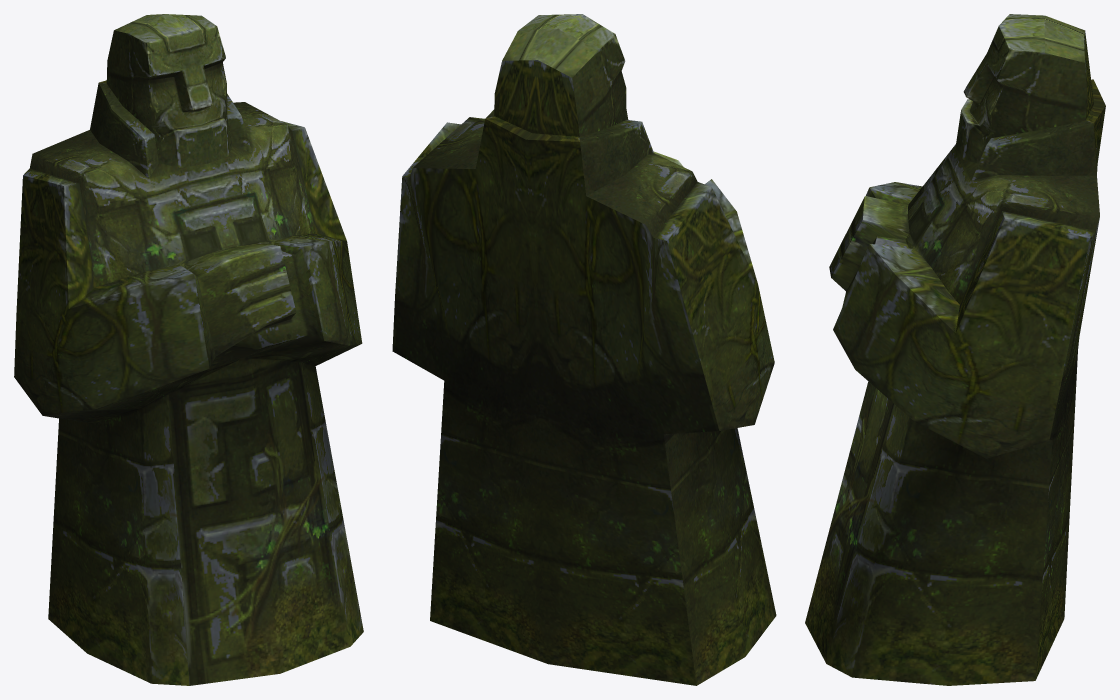
Rendered from common_yewai_shitouren.FBX.
The picture shows the model from 3 angles, left to right: view 1: azimuth 30°, elevation 25°; view 2: azimuth 150°, elevation 25°; view 3: azimuth 270°, elevation 25°; orthographic projection. The views are drawn at different scales.
Visible parts, largest first — view 1: common_yewai_shitouren; view 2: common_yewai_shitouren; view 3: common_yewai_shitouren.
Boxes of the visible parts, box(x1,y1,x2,y2) form: common_yewai_shitouren: box(14, 14, 363, 685); common_yewai_shitouren: box(392, 14, 776, 685); common_yewai_shitouren: box(805, 14, 1105, 685).
Size of the model in its own units: 4.14 by 3.43 by 7.56.
